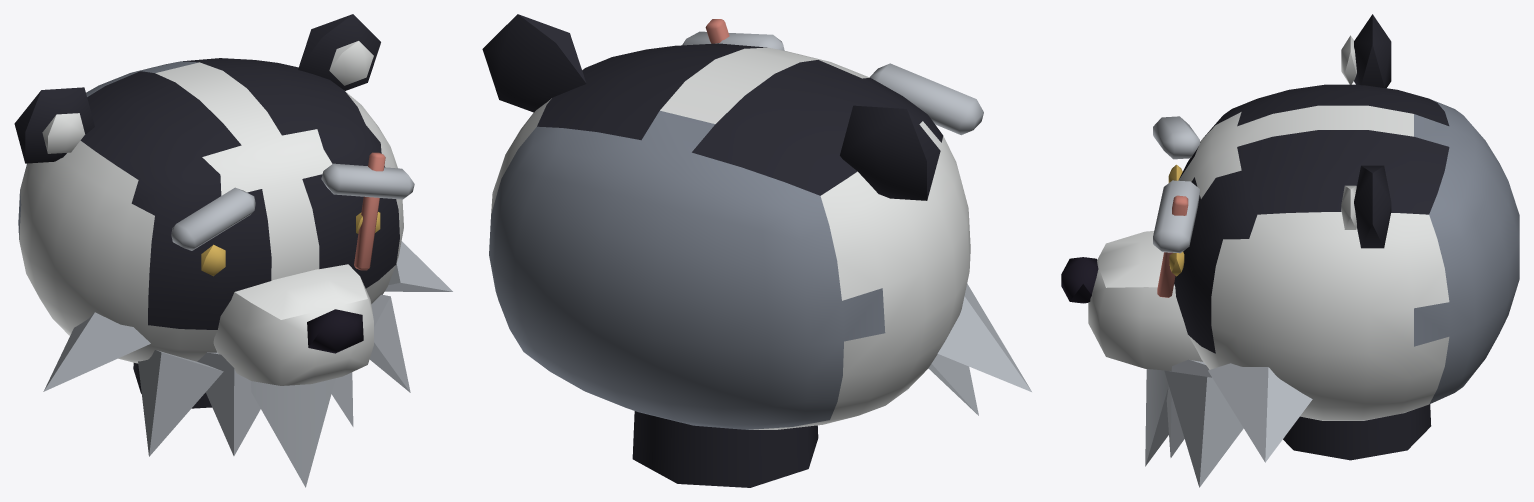
The model's file is brann_head.fbx.
3 views of the same model, side by side, from view 1: azimuth 30°, elevation 25°; view 2: azimuth 150°, elevation 25°; view 3: azimuth 270°, elevation 25° (orthographic). The views are drawn at different scales.
Visible parts, largest first — view 1: brann_head; view 2: brann_head; view 3: brann_head.
Part boxes in pixels (box(x1,y1,x2,y2)): brann_head: box(14, 14, 452, 487); brann_head: box(482, 14, 1031, 487); brann_head: box(1061, 14, 1519, 487).
Bounding box in the file's own units: 1.35 × 1.12 × 1.25.
